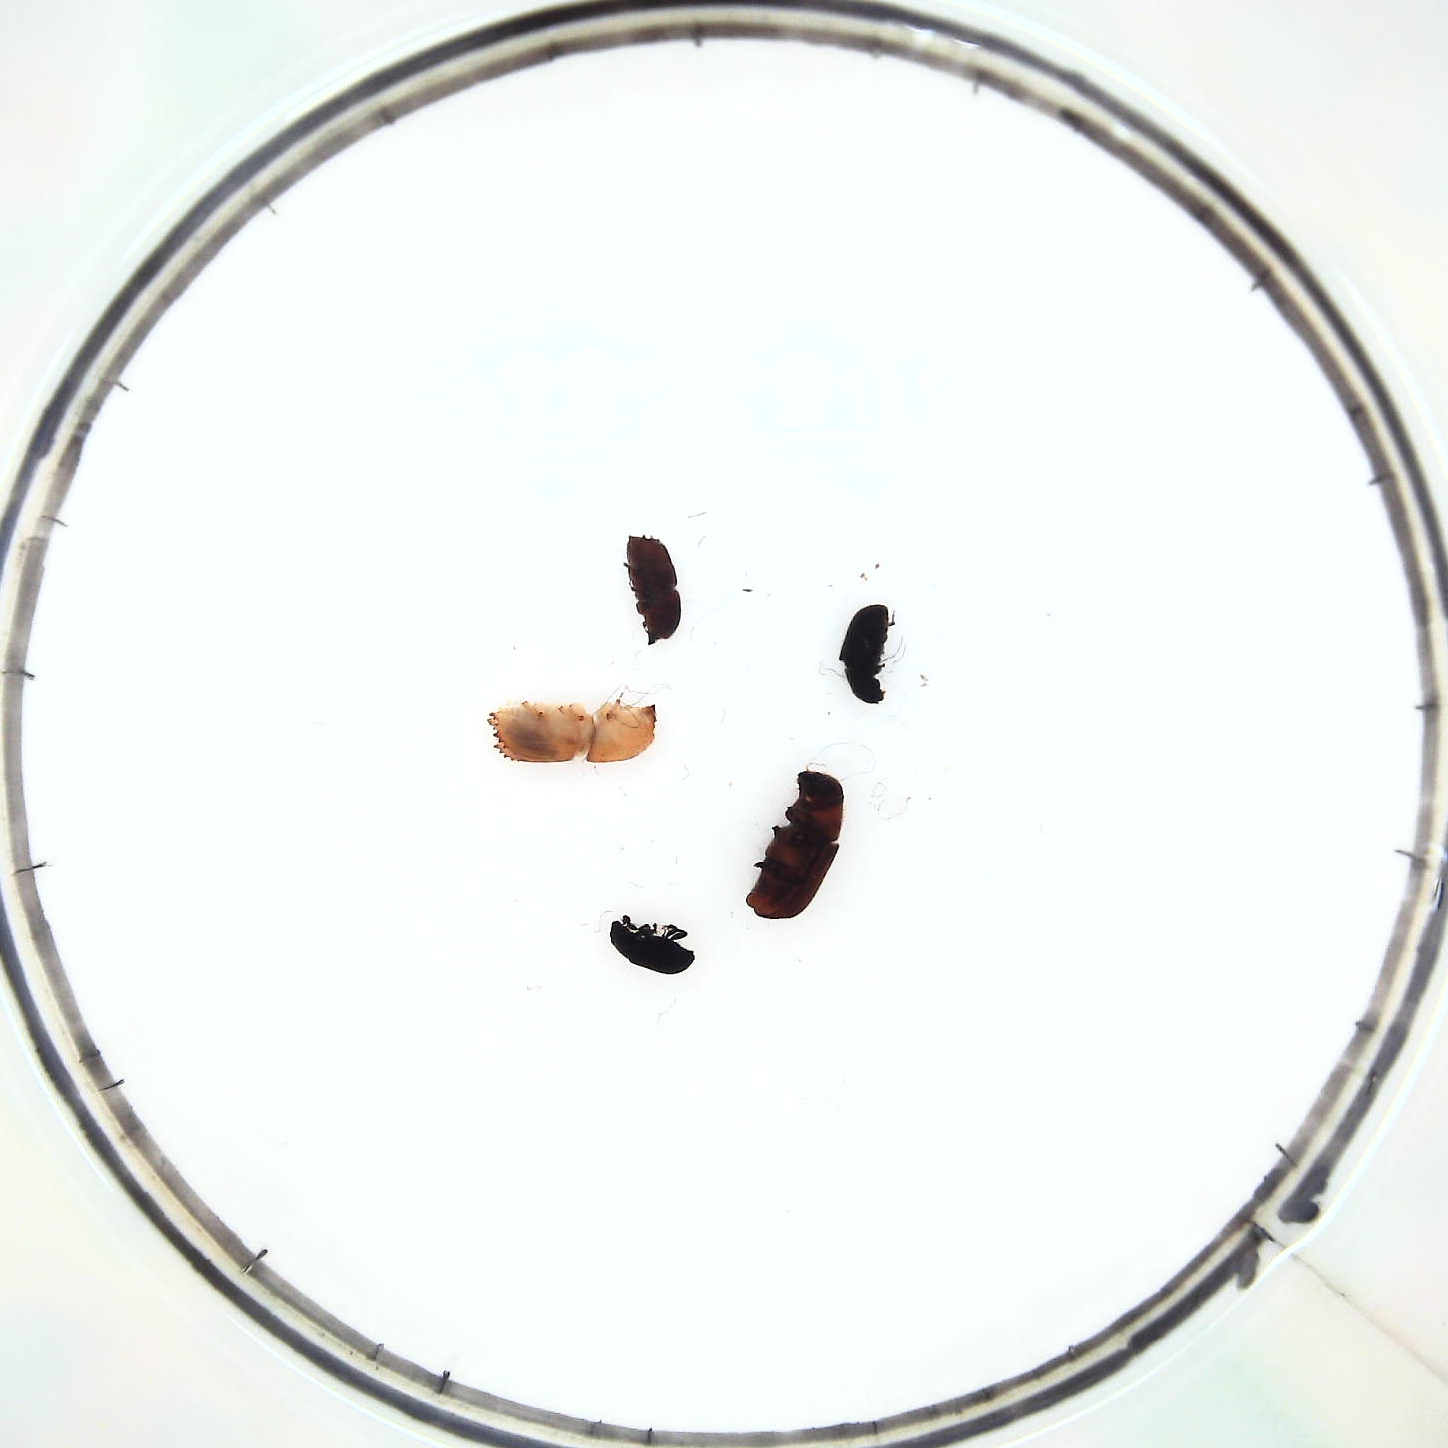Boerner: (485, 703, 658, 766)
Leconte: (751, 769, 846, 926)
Linnaeus: (621, 530, 683, 644)
armandi: (838, 603, 900, 703)
coleoptera: (613, 914, 697, 979)
